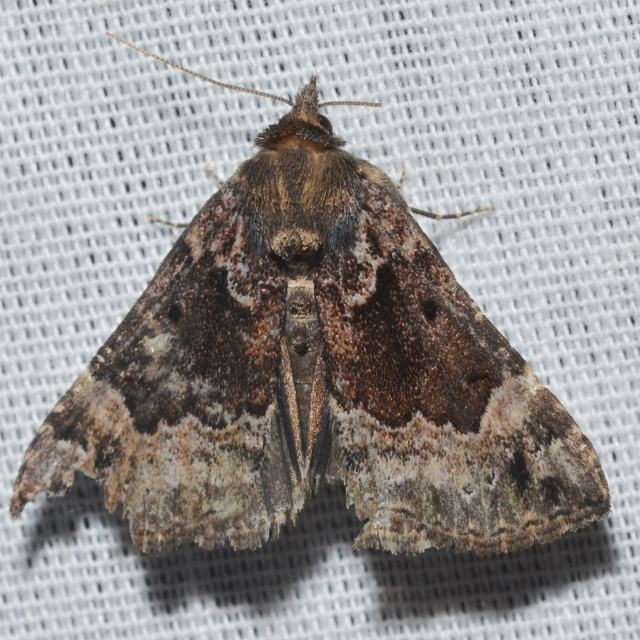Moths and butterflies: (8, 31, 614, 560)
